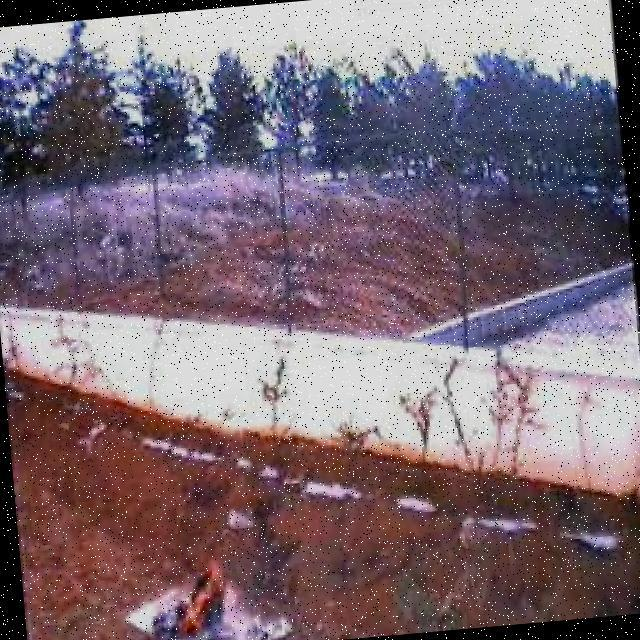Fire: (152, 549, 238, 640)
